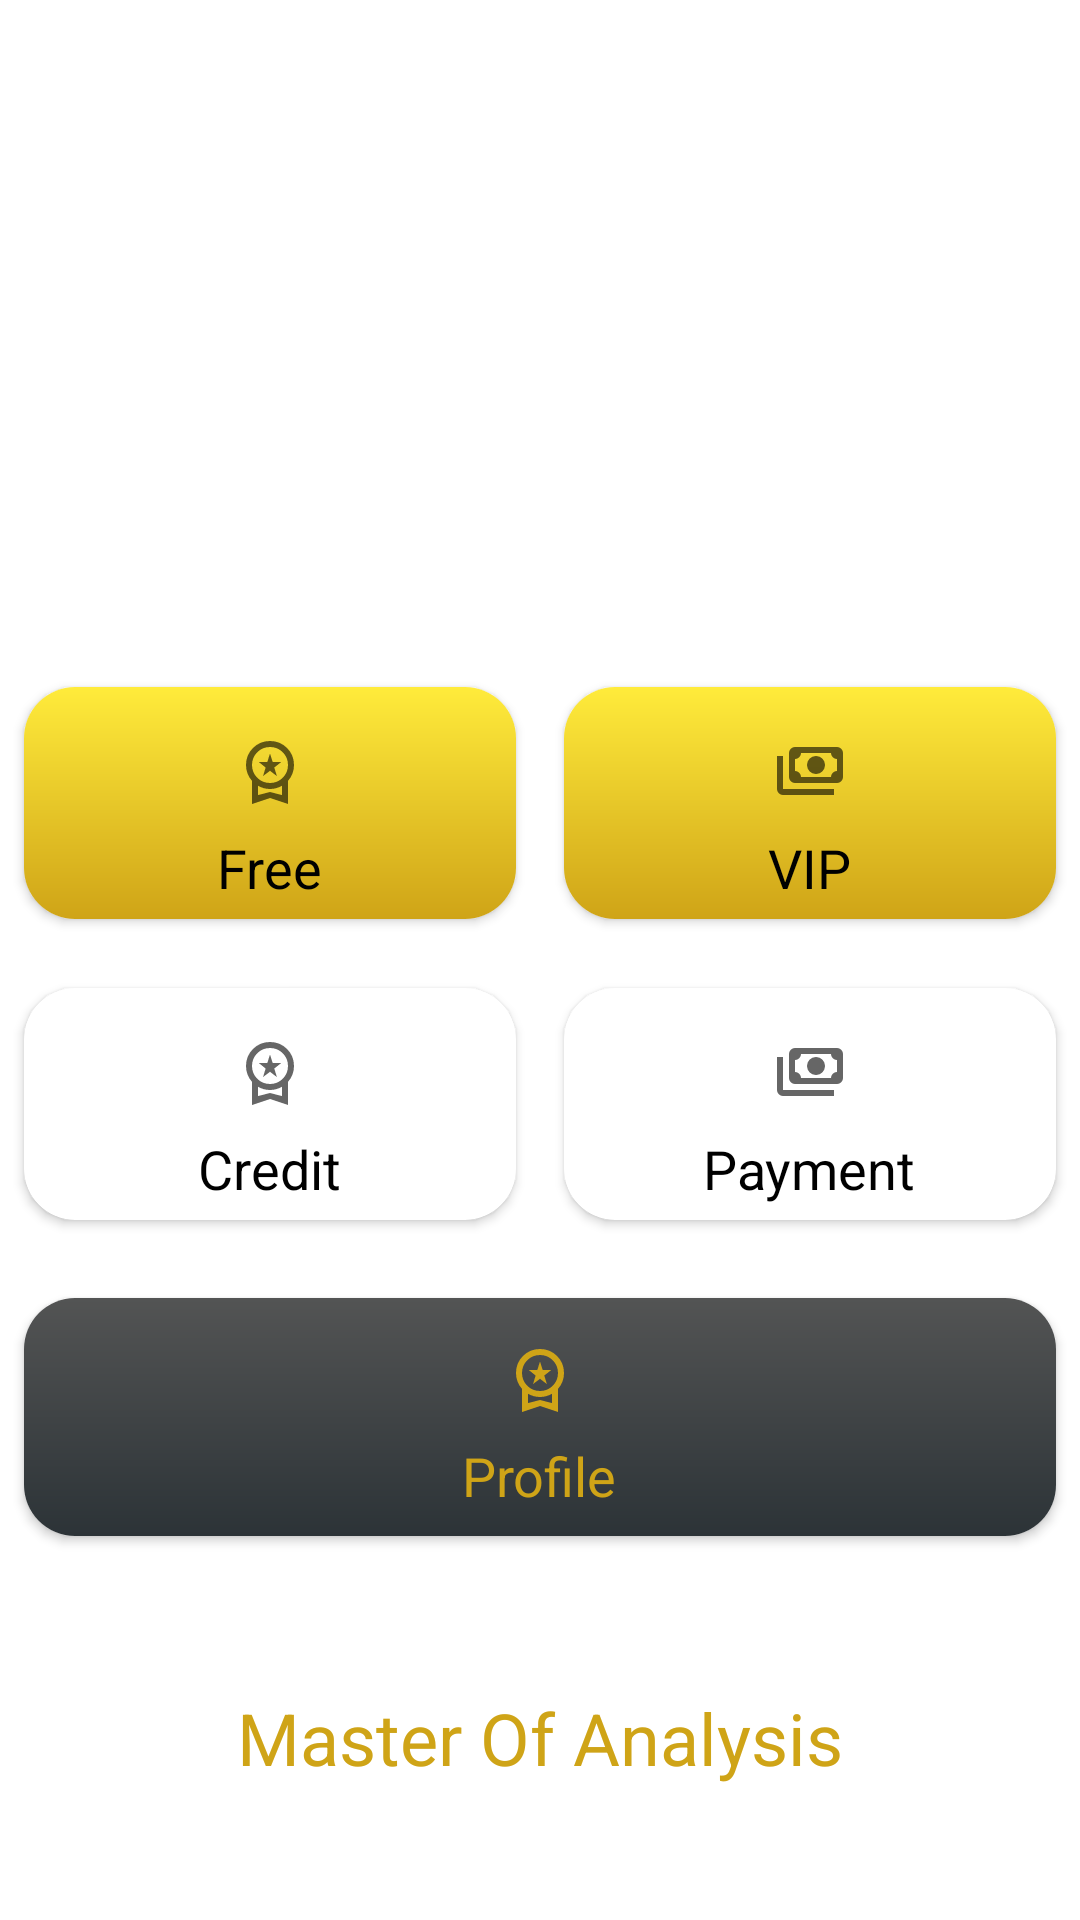

Where icons sit on this 1080px x 1920px app screen, as (x1, y1, x2, y2):
odeme: (777, 747, 843, 795), (777, 1048, 843, 1096)
seckin: (234, 741, 306, 807), (246, 1042, 294, 1105), (504, 1349, 576, 1415)
